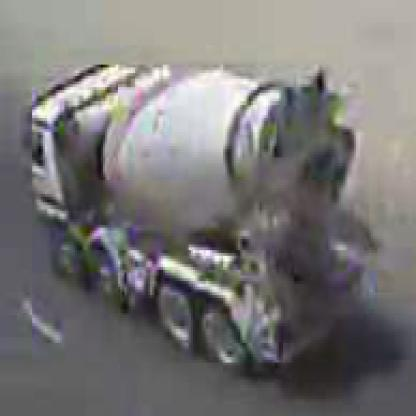truck: (33, 66, 372, 367)
